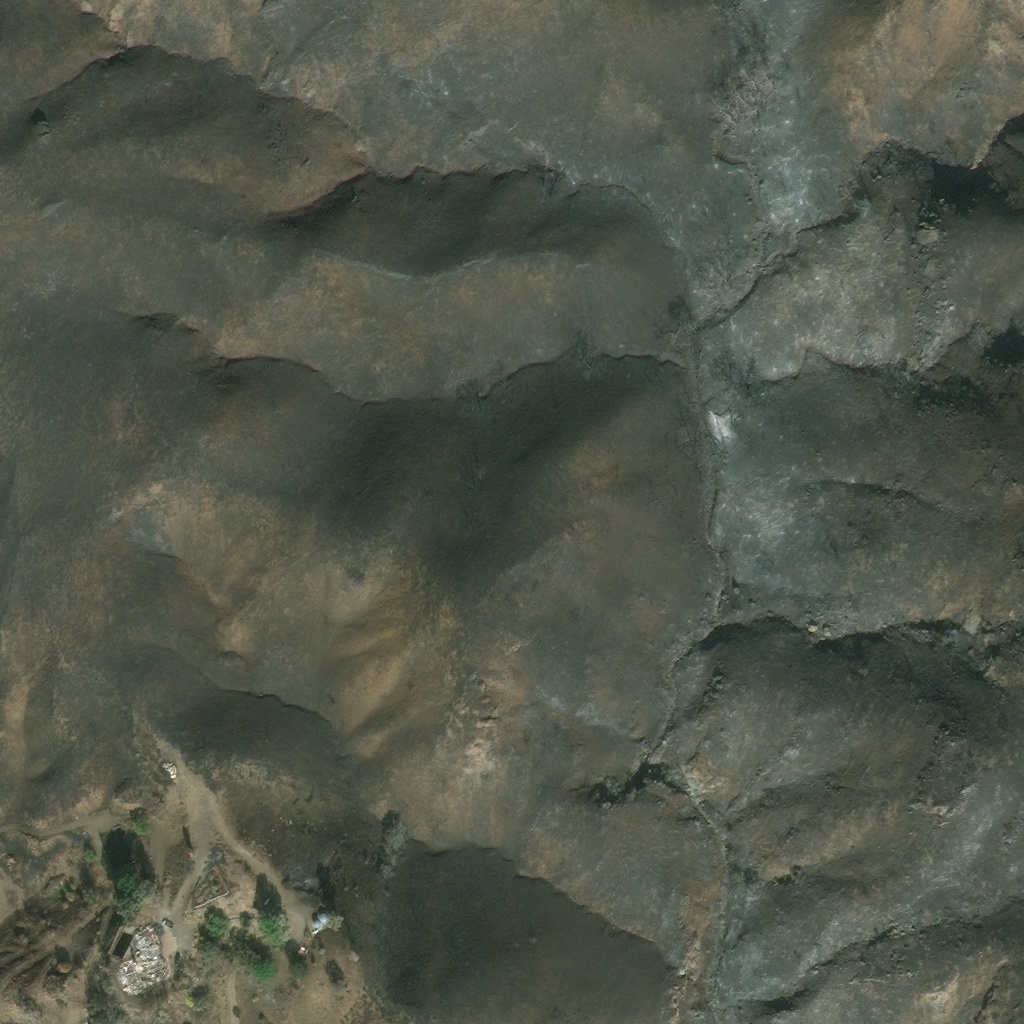0 no-damage: (319, 912, 328, 922), (312, 920, 320, 928)
3 destroyed: (116, 923, 167, 994), (292, 939, 309, 956)
